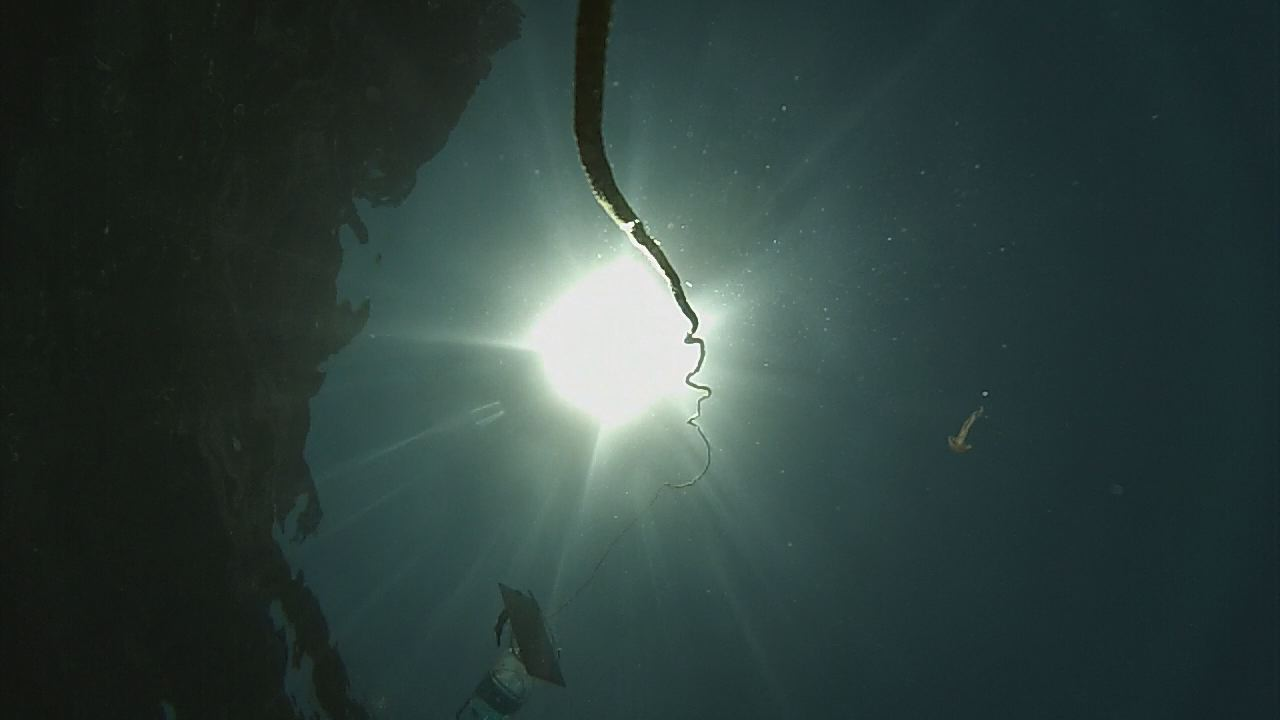pelagia: (943, 400, 989, 461)
